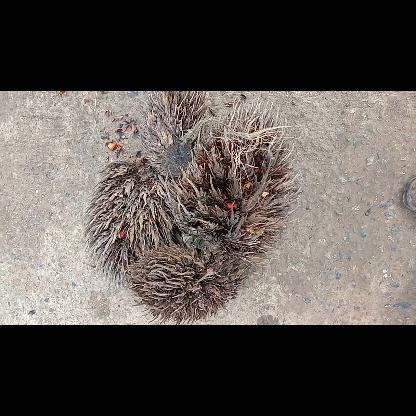Janjang kosong: (166, 97, 300, 265), (83, 160, 173, 286), (126, 242, 244, 324), (140, 90, 210, 176)
